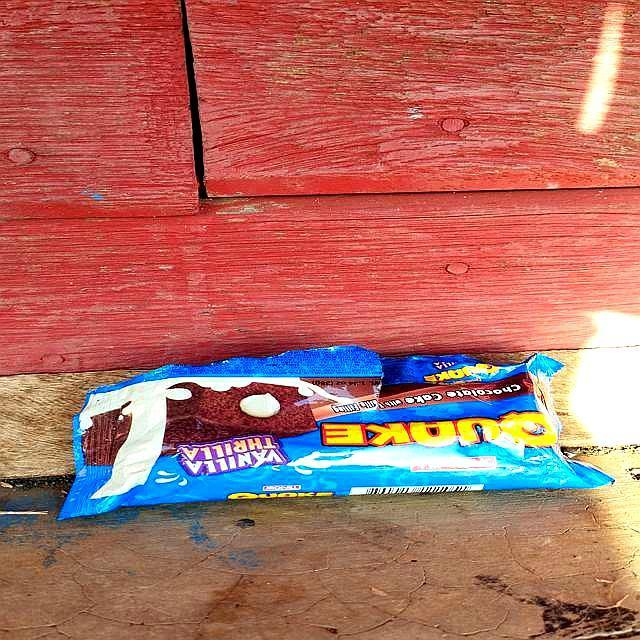Non-biodegradable: (58, 345, 615, 522)
